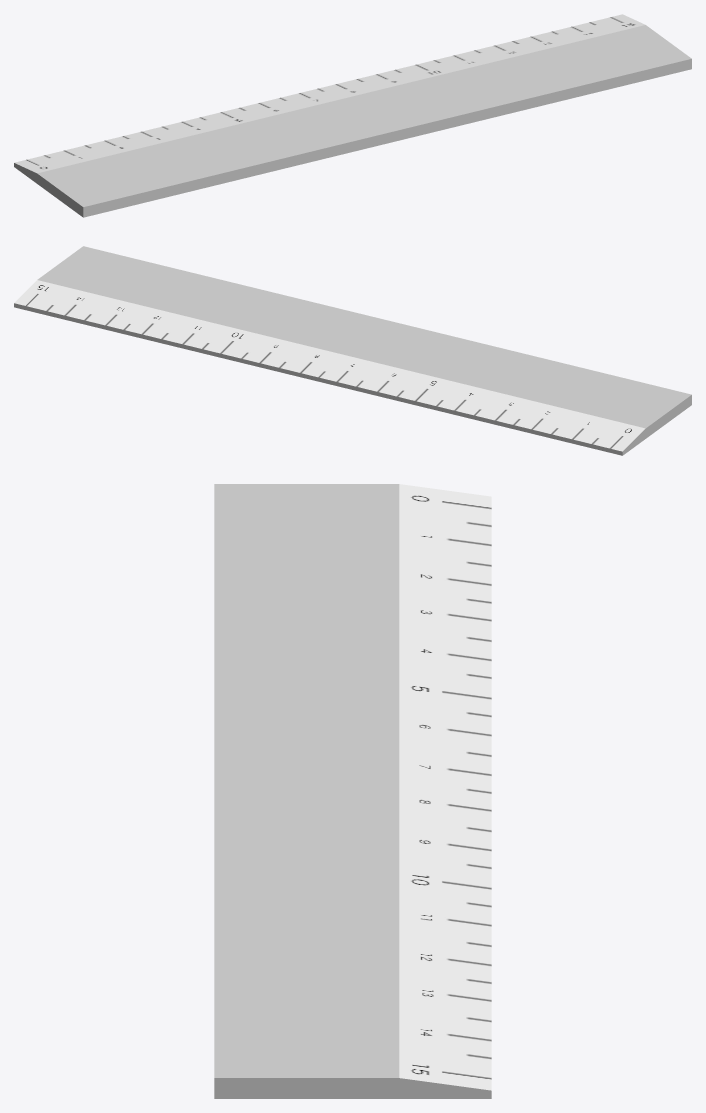
3 renders of one model, top to bottom at view 1: azimuth 30°, elevation 25°; view 2: azimuth 150°, elevation 25°; view 3: azimuth 270°, elevation 25°, orthographic. The views are drawn at different scales.
Parts seen in each view (by area): view 1: 426_定規15cm; view 2: 426_定規15cm; view 3: 426_定規15cm.
Boxes of the visible parts, x1,y1,x2,y2 form: 426_定規15cm: [14, 14, 691, 217]; 426_定規15cm: [14, 246, 691, 455]; 426_定規15cm: [214, 484, 491, 1098].
Size of the model in its own units: 0.152 by 0.0025 by 0.03.
Materials: 2 (1 with a texture image).
